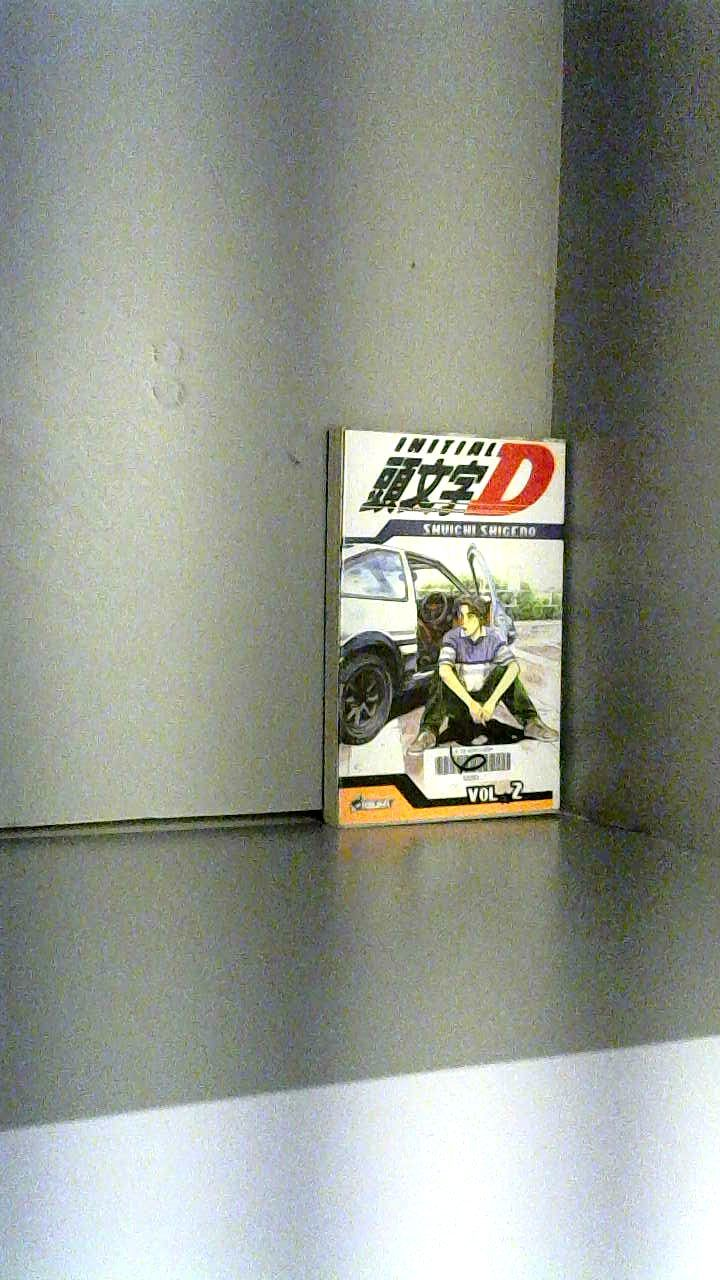book: (299, 397, 593, 854)
